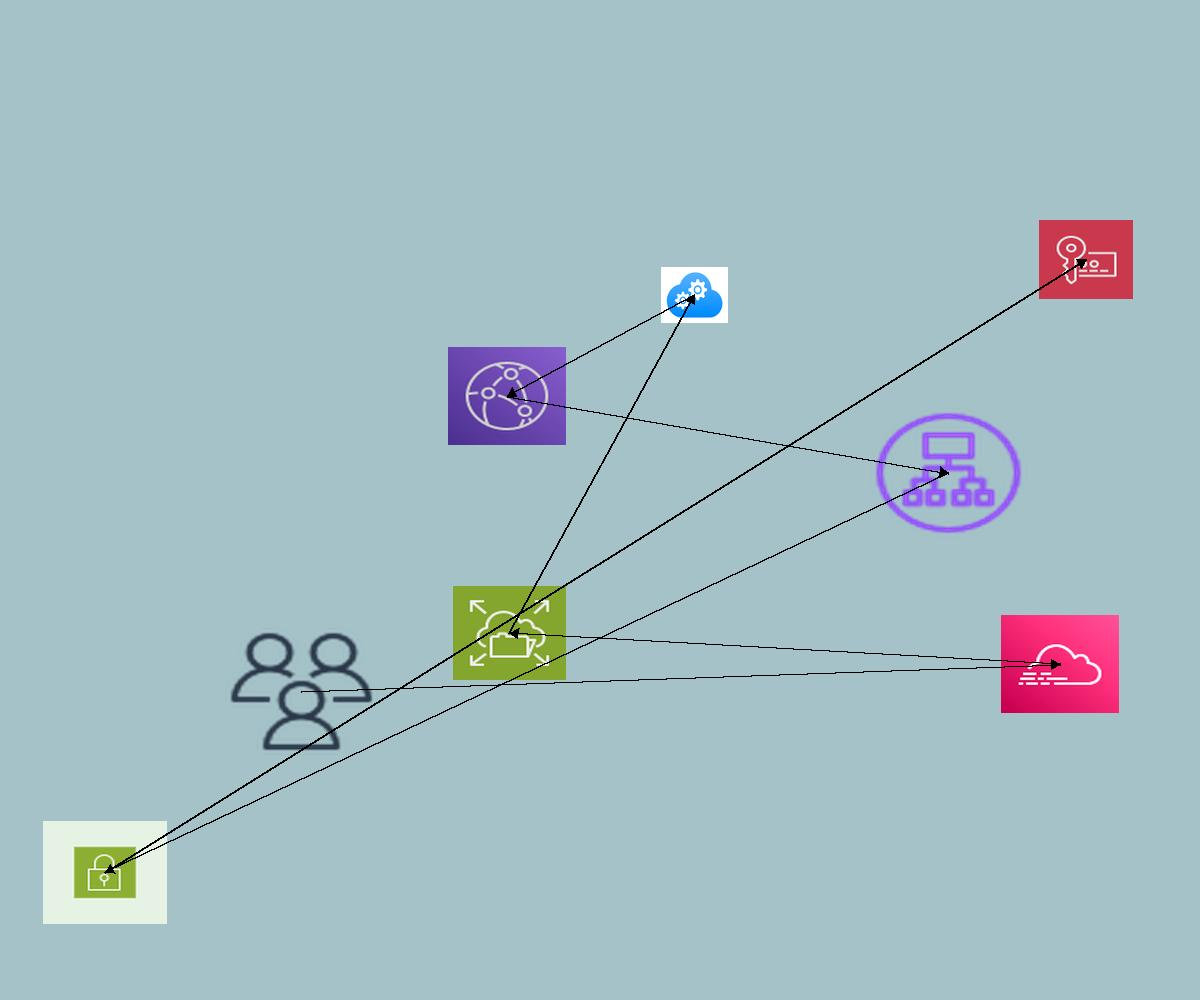AWS-CloudFront: (448, 347, 566, 445)
AWS-CloudTrail: (1001, 615, 1119, 713)
AWS-EFS: (453, 586, 566, 680)
AWS-Key-Management-Service: (1039, 220, 1133, 299)
AWS-Public-subnet: (43, 821, 167, 924)
AWS-Res_Elastic-Load-Balancing_Application-Load-Balancer: (870, 408, 1027, 538)
AWS-Res_Users: (225, 628, 378, 755)
Azure_cloud_services: (661, 267, 728, 323)
